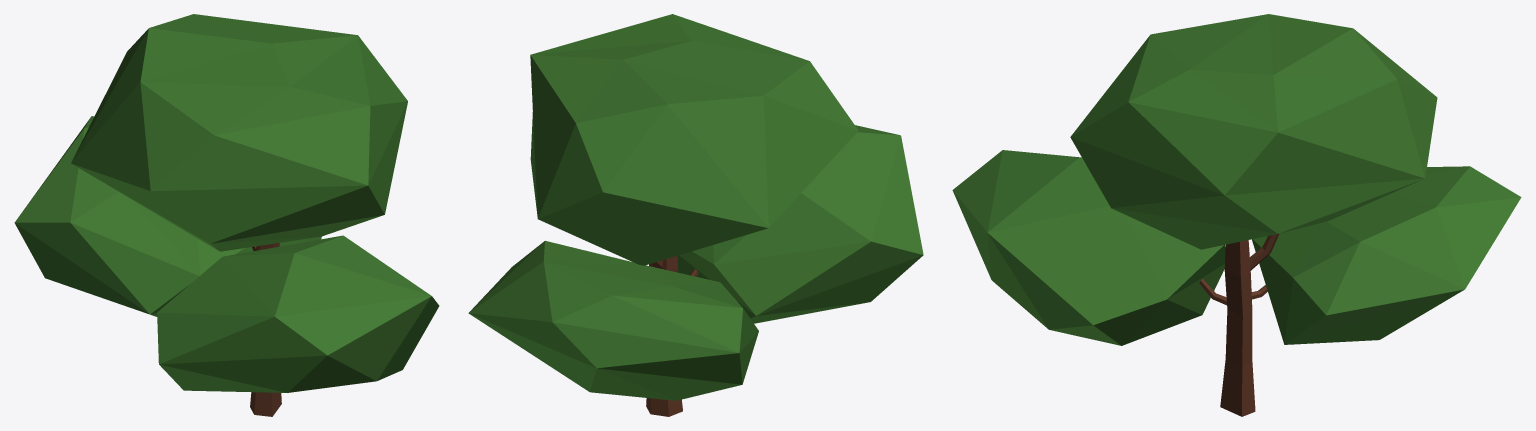
The model's file is Tree_03.fbx.
The picture shows the model from 3 angles, left to right: view 1: azimuth 30°, elevation 25°; view 2: azimuth 150°, elevation 25°; view 3: azimuth 270°, elevation 25°; orthographic projection. The views are drawn at different scales.
Parts seen in each view (by area): view 1: Tree_03; view 2: Tree_03; view 3: Tree_03.
Part boxes in pixels (x1,y1,x2,y2): Tree_03: [14, 14, 439, 416]; Tree_03: [468, 14, 923, 416]; Tree_03: [952, 14, 1521, 416].
Size of the model in its own units: 1534 by 1651 by 2422.
